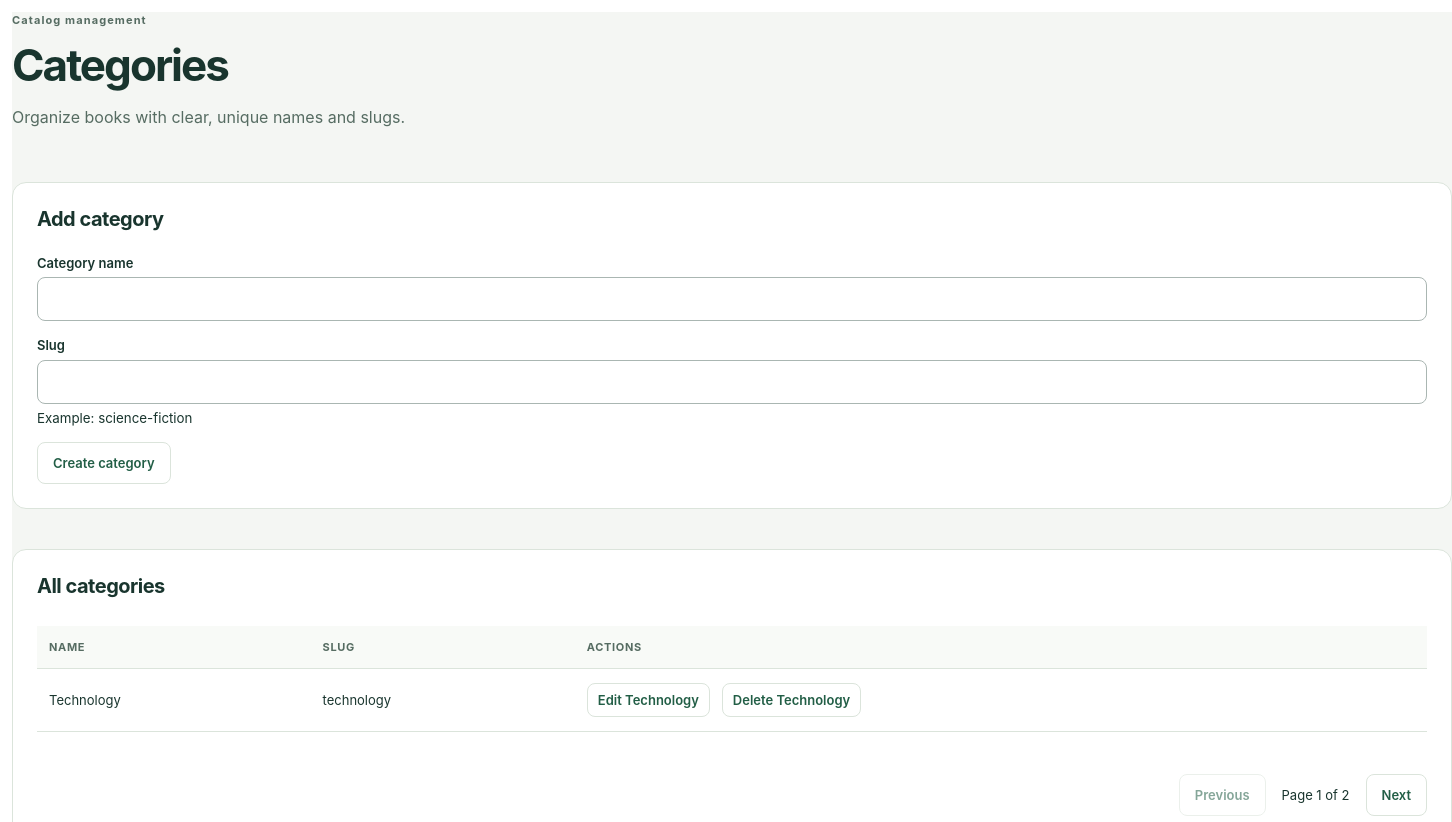
Test: catalog and copy screens › paginates category management to records after the first twenty
Expected: the button "Edit Technology" is shown, [587,683,710,717]
Click the button "Next". click: (1396, 795)
box: [1366,774,1427,816]
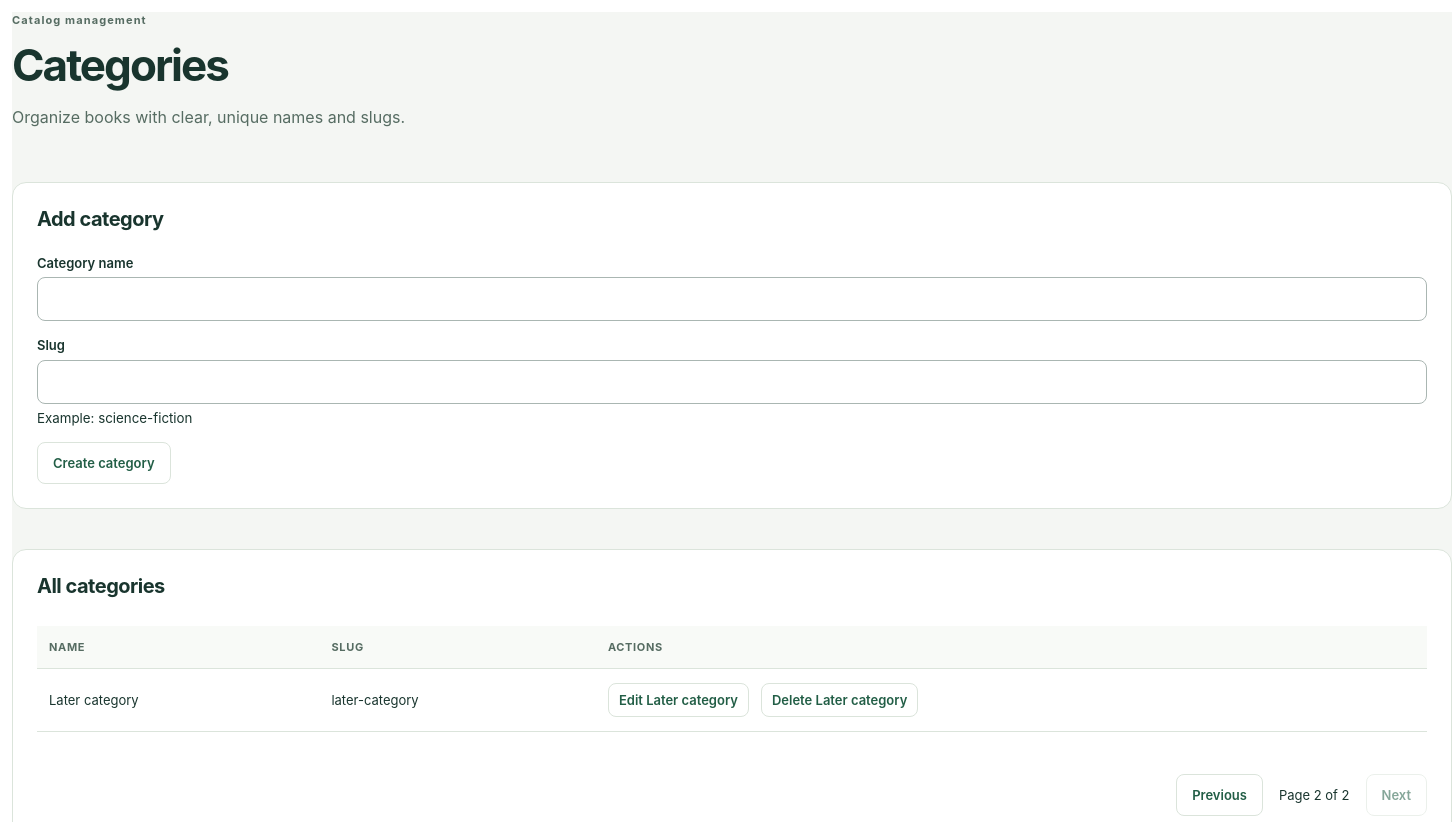
Now the button "Edit Later category" is shown, box [608,683,749,717]
